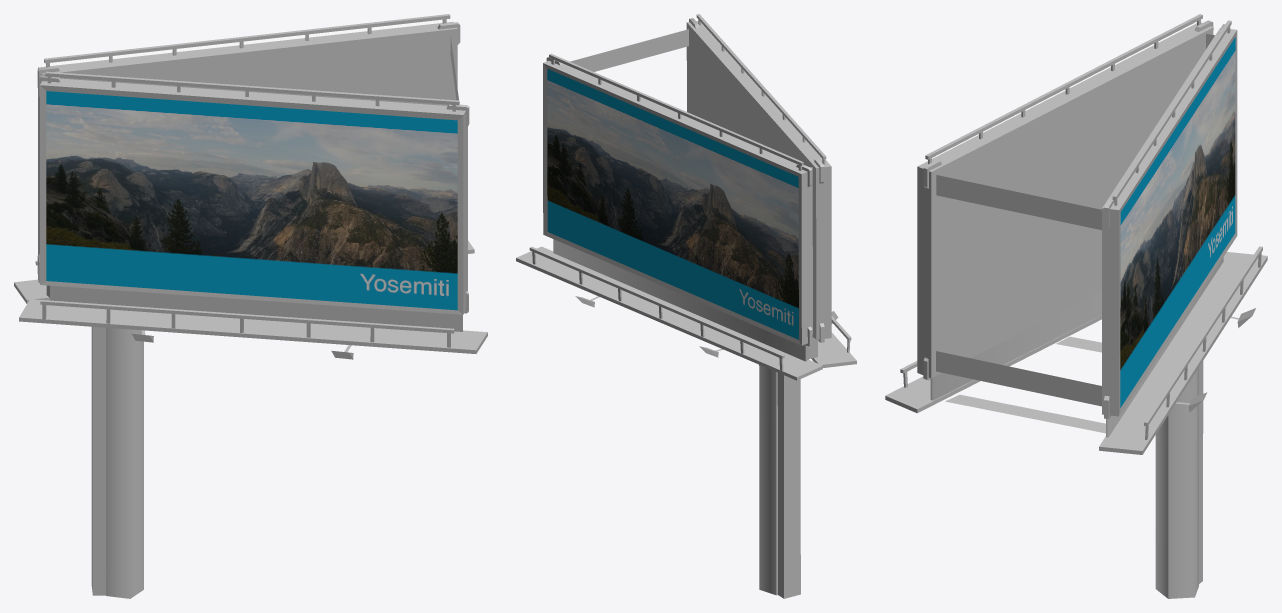
The model's file is billboard.dae.
The picture shows the model from 3 angles, left to right: view 1: azimuth 30°, elevation 25°; view 2: azimuth 150°, elevation 25°; view 3: azimuth 270°, elevation 25°; orthographic projection. The views are drawn at different scales.
Parts seen in each view (by area): view 1: Pic2, Base; view 2: Base, Pic1; view 3: Base, Pic1.
Boxes of the visible parts, x1,y1,x2,y2 form: Pic2: (46, 91, 457, 310); Base: (14, 14, 487, 598); Base: (516, 14, 856, 598); Pic1: (547, 69, 798, 339); Base: (885, 14, 1267, 598); Pic1: (1120, 37, 1235, 407).
Bounding box in the file's own units: 67.7 × 80.99 × 51.7.
